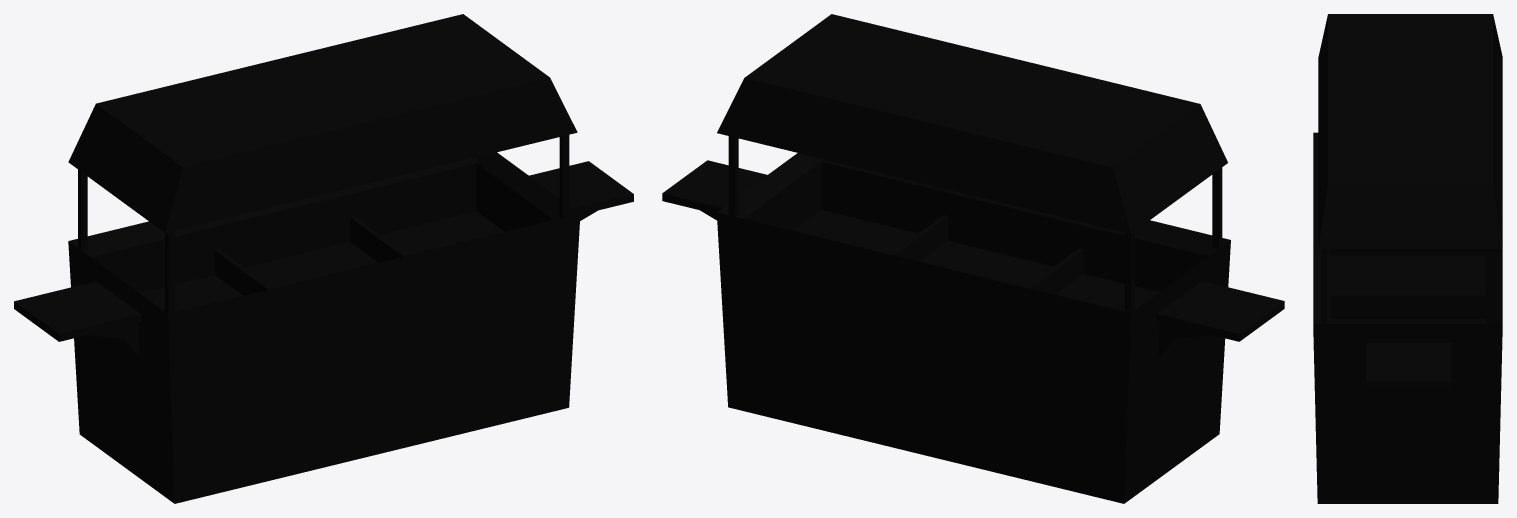
The model's file is Buffet.glb.
3 views of the same model, side by side, from view 1: azimuth 30°, elevation 25°; view 2: azimuth 150°, elevation 25°; view 3: azimuth 270°, elevation 25° (orthographic). The views are drawn at different scales.
Visible parts, largest first — view 1: Buffet; view 2: Buffet; view 3: Buffet.
Part boxes in pixels (x1,y1,x2,y2): Buffet: (14,14,633,503); Buffet: (662,14,1284,503); Buffet: (1313,14,1502,503).
Size of the model in its own units: 334 by 183 by 100.
1 material, 1 textured.
